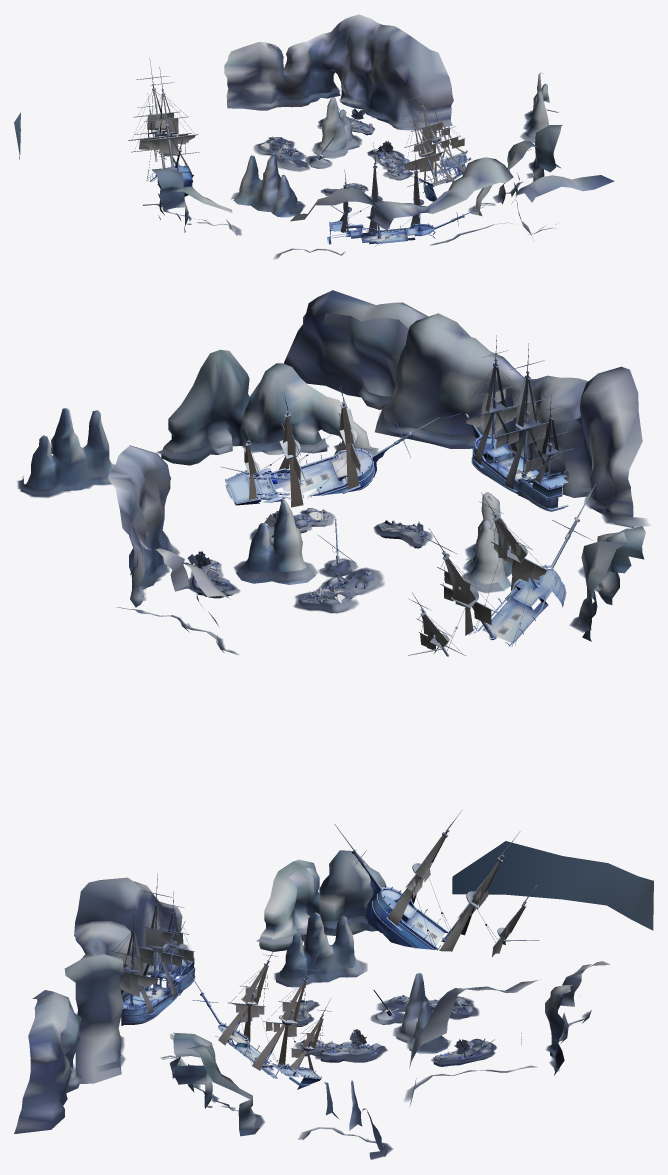
Rendered from PSAct3.gltf.
3 views of the same model, one above another, from view 1: azimuth 30°, elevation 25°; view 2: azimuth 150°, elevation 25°; view 3: azimuth 270°, elevation 25° (orthographic). The views are drawn at different scales.
Parts seen in each view (by area): view 1: stg053_o_Mesh_0007, stg053_shibuki_a_Mesh_0001, stg053_o_Mesh_0011, stg053_p_Mesh_0021, stg053_shibuki_a_Mesh_0009, stg053_o_Mesh_0055, stg053_p_Mesh_0001, stg053_o_Mesh_0051, stg053_o_Mesh_0040, stg053_o_Mesh_0026, stg053_o_Mesh_0045; view 2: stg053_o_Mesh_0007, stg053_shibuki_a_Mesh_0001, stg053_o_Mesh_0055, stg053_o_Mesh_0011, stg053_p_Mesh_0001, stg053_shibuki_a_Mesh_0009, stg053_p_Mesh_0021, stg053_o_Mesh_0051, stg053_o_Mesh_0045, stg053_o_Mesh_0026, stg053_o_Mesh_0040, stg053_o_Mesh_0046; view 3: stg053_o_Mesh_0007, stg053_p_Mesh_0003, stg053_p_Mesh_0001, stg053_o_Mesh_0011, stg053_shibuki_a_Mesh_0001, stg053_p_Mesh_0021, stg053_o_Mesh_0055, stg053_shibuki_a_Mesh_0009, stg053_o_Mesh_0051, stg053_o_Mesh_0046, stg053_o_Mesh_0045, stg053_o_Mesh_0040 (+1 smaller).
Boxes of the visible parts, x1,y1,x2,y2 form: stg053_o_Mesh_0007: (152, 14, 614, 240); stg053_shibuki_a_Mesh_0001: (143, 87, 557, 259); stg053_o_Mesh_0011: (128, 58, 484, 244); stg053_p_Mesh_0021: (139, 113, 464, 221); stg053_shibuki_a_Mesh_0009: (145, 87, 556, 258); stg053_o_Mesh_0055: (148, 125, 466, 244); stg053_p_Mesh_0001: (148, 90, 465, 232); stg053_o_Mesh_0051: (149, 84, 470, 242); stg053_o_Mesh_0040: (267, 119, 405, 193); stg053_o_Mesh_0026: (132, 90, 463, 246); stg053_o_Mesh_0045: (157, 123, 462, 242); stg053_o_Mesh_0007: (20, 290, 645, 652); stg053_shibuki_a_Mesh_0001: (17, 390, 650, 654); stg053_o_Mesh_0055: (210, 403, 568, 647); stg053_o_Mesh_0011: (192, 335, 595, 656); stg053_p_Mesh_0001: (242, 366, 568, 653); stg053_shibuki_a_Mesh_0009: (18, 387, 646, 654); stg053_p_Mesh_0021: (244, 389, 546, 650); stg053_o_Mesh_0051: (207, 360, 579, 648); stg053_o_Mesh_0045: (232, 433, 568, 640); stg053_o_Mesh_0026: (246, 367, 570, 653); stg053_o_Mesh_0040: (193, 511, 426, 604); stg053_o_Mesh_0046: (259, 410, 564, 642); stg053_o_Mesh_0007: (14, 850, 610, 1156); stg053_p_Mesh_0003: (452, 841, 653, 930); stg053_p_Mesh_0001: (121, 835, 524, 1071); stg053_o_Mesh_0011: (110, 809, 539, 1085); stg053_shibuki_a_Mesh_0001: (69, 919, 590, 1159); stg053_p_Mesh_0021: (120, 860, 509, 1057); stg053_o_Mesh_0055: (123, 863, 510, 1078); stg053_shibuki_a_Mesh_0009: (68, 915, 589, 1159); stg053_o_Mesh_0051: (121, 830, 526, 1086); stg053_o_Mesh_0046: (123, 890, 479, 1089); stg053_o_Mesh_0045: (123, 891, 450, 1076); stg053_o_Mesh_0040: (297, 1000, 490, 1059).
Size of the model in its own units: 833 by 230 by 832.
